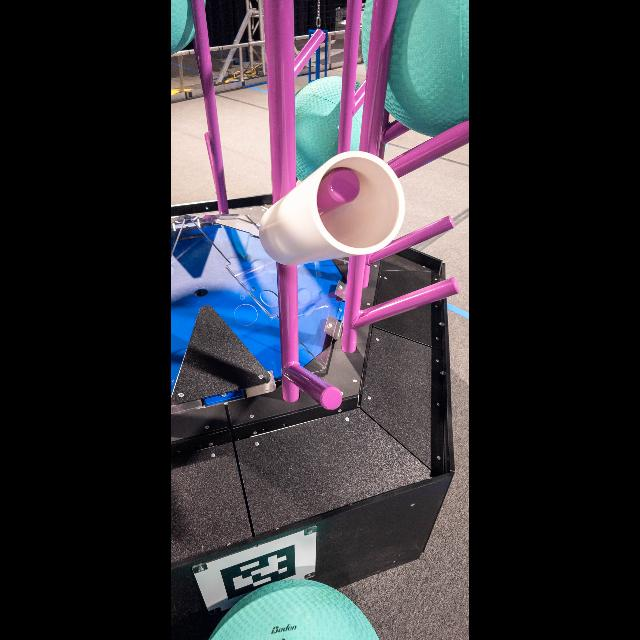ALGAE: (362, 0, 470, 138), (210, 580, 382, 640), (296, 76, 366, 184), (171, 0, 207, 56)
CORAL: (258, 152, 404, 266)
